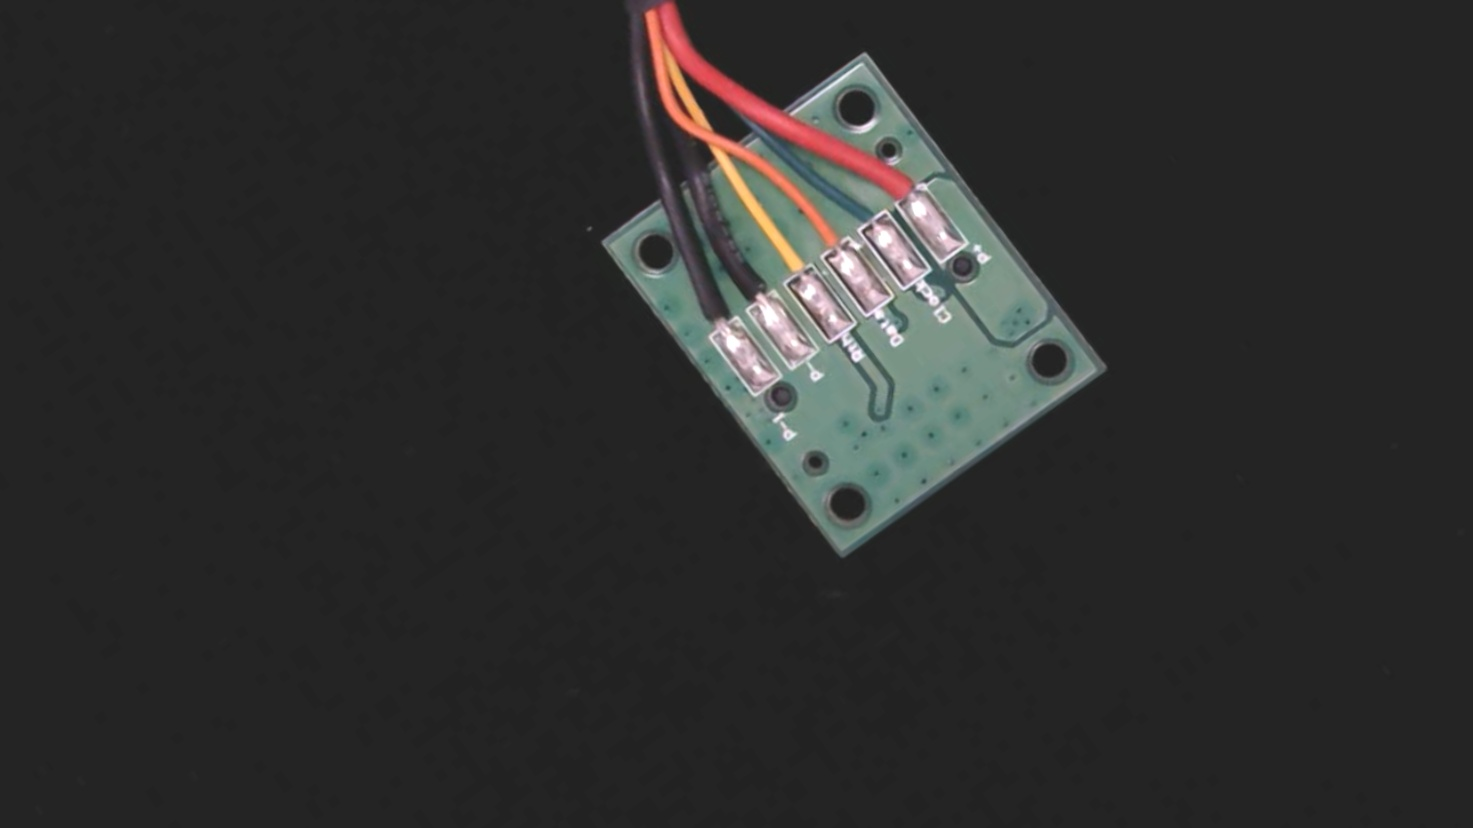Black: (702, 234, 789, 329)
Black1: (669, 266, 750, 355)
Green: (820, 168, 898, 251)
Orange: (779, 180, 864, 272)
Red: (854, 130, 939, 220)
Yellow: (741, 206, 828, 302)
